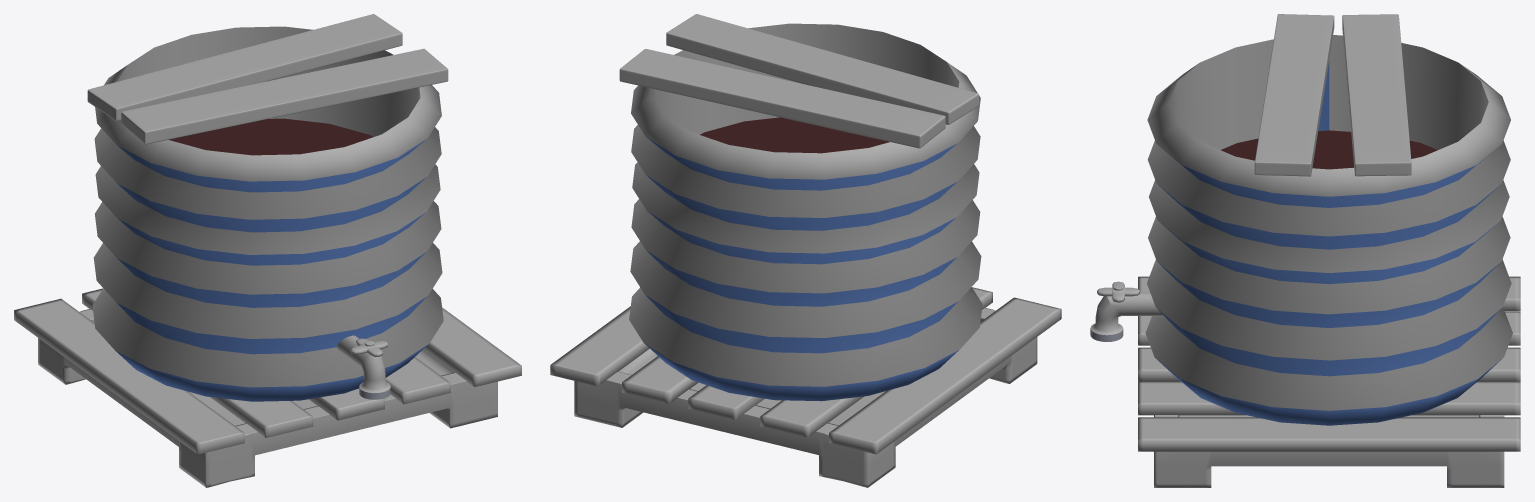
Rendered from WaterCountainer.fbx.
3 renders of one model, left to right at view 1: azimuth 30°, elevation 25°; view 2: azimuth 150°, elevation 25°; view 3: azimuth 270°, elevation 25°, orthographic. The views are drawn at different scales.
Parts seen in each view (by area): view 1: pCylinder1, pCube14, pCube16, pCube18, pCylinder2; view 2: pCylinder1, pCube14, pCube18, pCube16; view 3: pCylinder1, pCube14, pCube16, pCube18, pCylinder2, pCube17.
Boxes of the visible parts, x1,y1,x2,y2 form: pCylinder1: [92, 26, 443, 401]; pCube14: [14, 288, 521, 487]; pCube16: [121, 48, 448, 144]; pCube18: [87, 14, 402, 120]; pCylinder2: [336, 335, 390, 399]; pCylinder1: [629, 23, 982, 401]; pCube14: [550, 287, 1061, 487]; pCube18: [619, 49, 945, 148]; pCube16: [666, 14, 978, 124]; pCylinder1: [1145, 35, 1512, 425]; pCube14: [1138, 276, 1520, 487]; pCube16: [1254, 14, 1334, 176]; pCube18: [1342, 14, 1411, 176]; pCylinder2: [1090, 292, 1163, 341]; pCube17: [1097, 281, 1139, 302].
Size of the model in its own units: 6.62 by 6.11 by 7.32.
